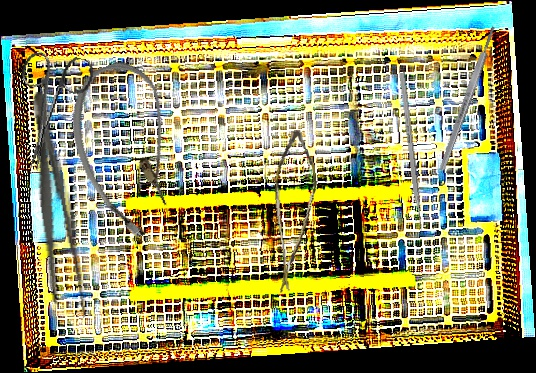Cannula: (52, 52, 204, 247)
Dressing Forceps: (19, 89, 93, 322)
Iris Scissors: (1, 46, 96, 178)
Micro Scissor: (260, 128, 330, 294)
Pusher: (398, 72, 426, 238)
Scalpel Handle: (437, 25, 498, 172)
